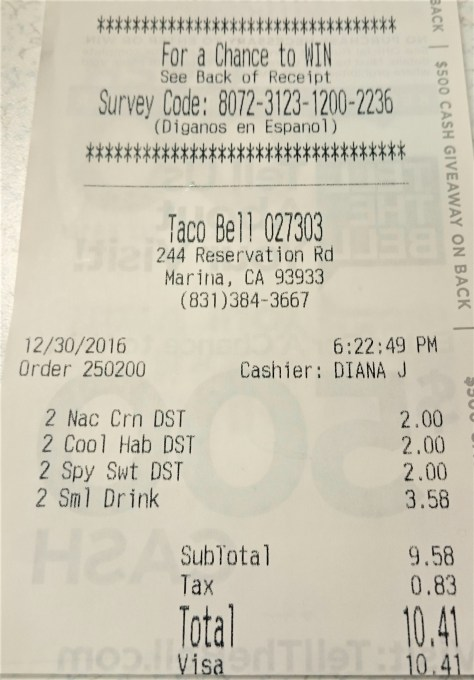Taco Bell: (162, 201, 257, 246)
